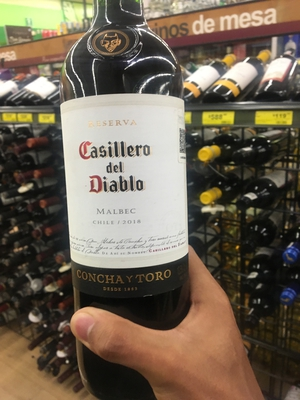casillero del diablo malbec: (55, 11, 207, 394)
